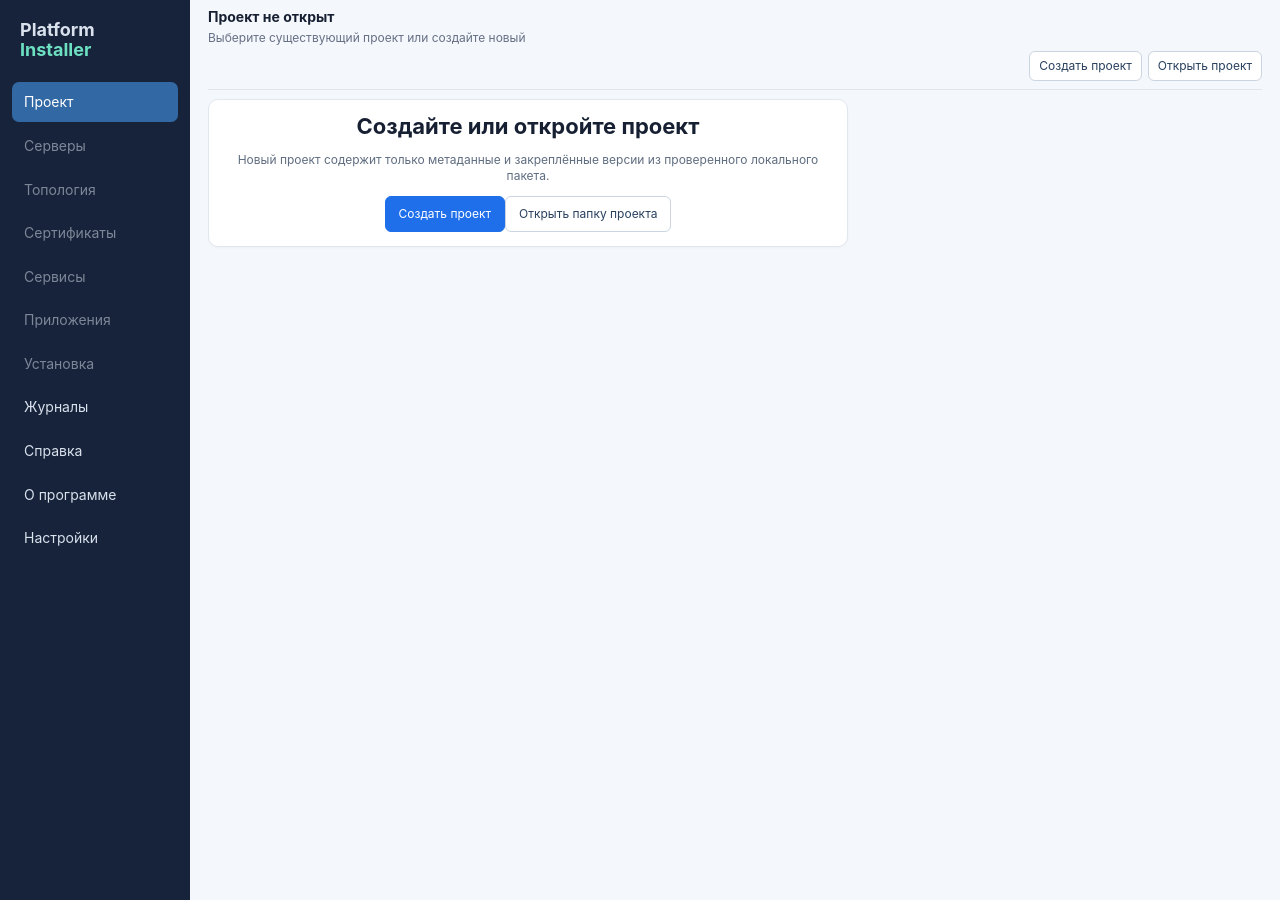
highlights project settings staged in the shared draft and keeps them visible across navigation
Click the button "Открыть папку проекта": click(588, 214) x1=505 y1=196 x2=672 y2=232
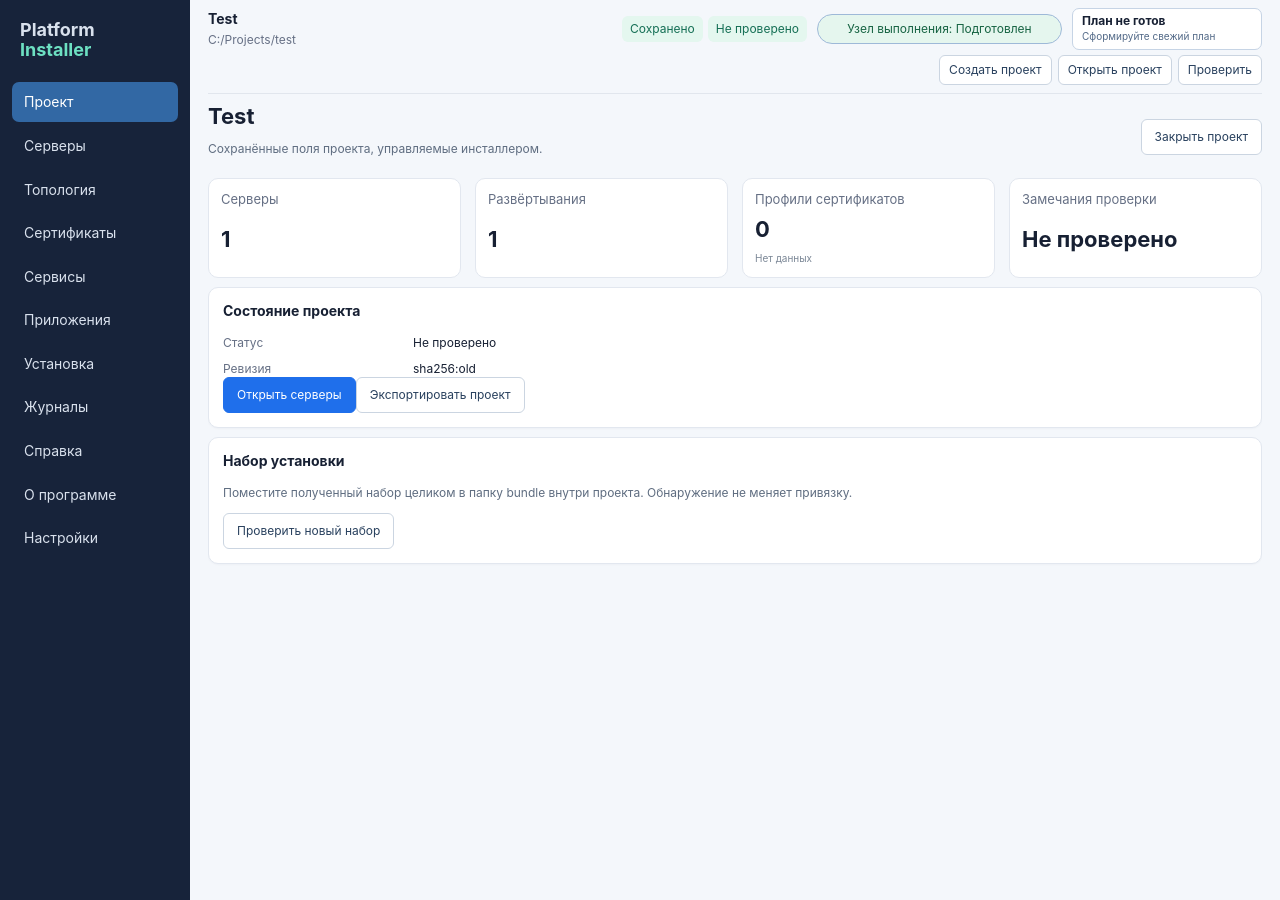
Click the button "Настройки": click(95, 538) x1=12 y1=518 x2=178 y2=558
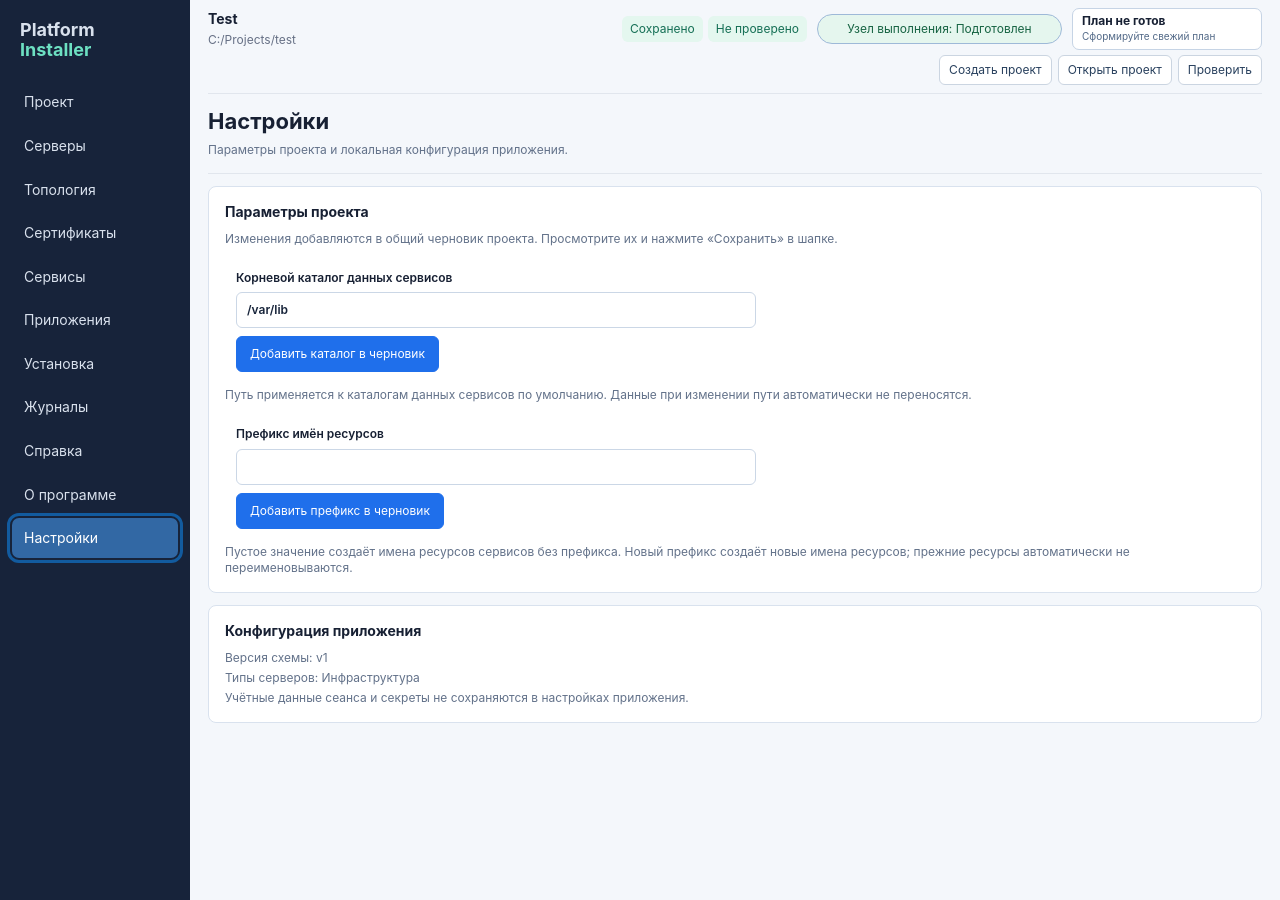
Replace the text in the field labelled "Корневой каталог данных сервисов" with "/data": (496, 310) x1=236 y1=292 x2=756 y2=328
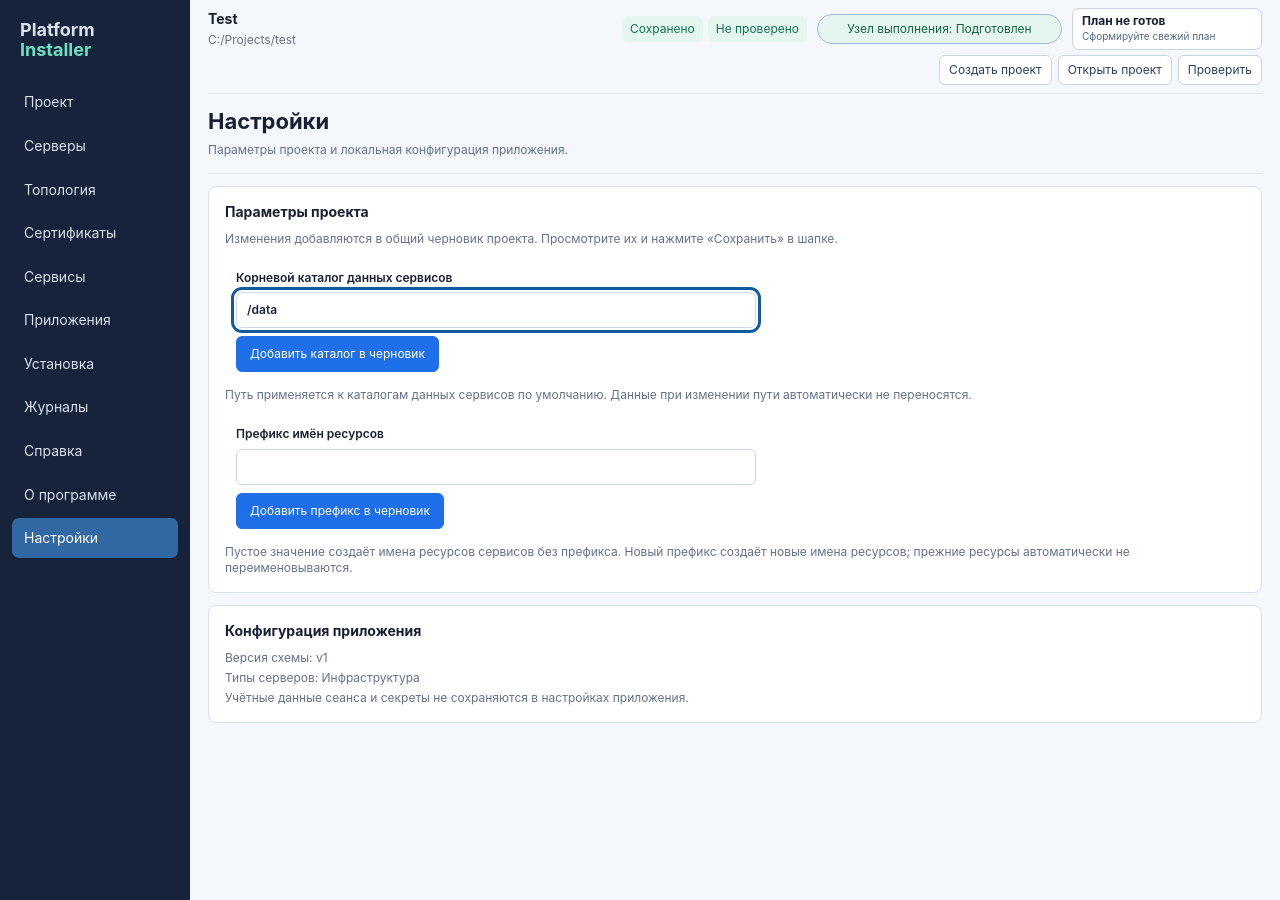
Click the button "Добавить каталог в черновик": click(338, 354) x1=236 y1=336 x2=439 y2=372
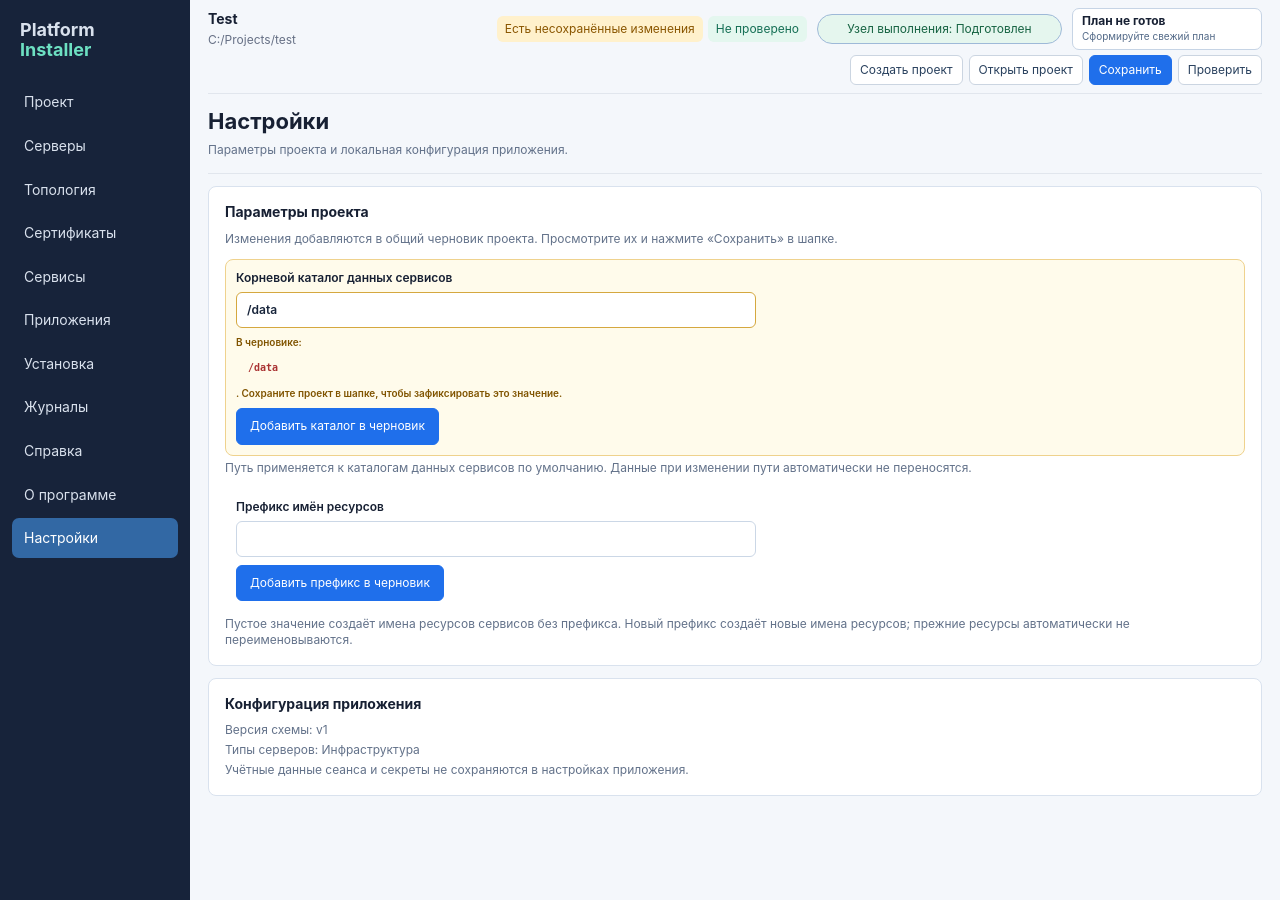
Result: the text "Есть несохранённые изменения" is shown at x1=497 y1=16 x2=703 y2=42
Click the button "Проект": click(95, 102) x1=12 y1=82 x2=178 y2=122
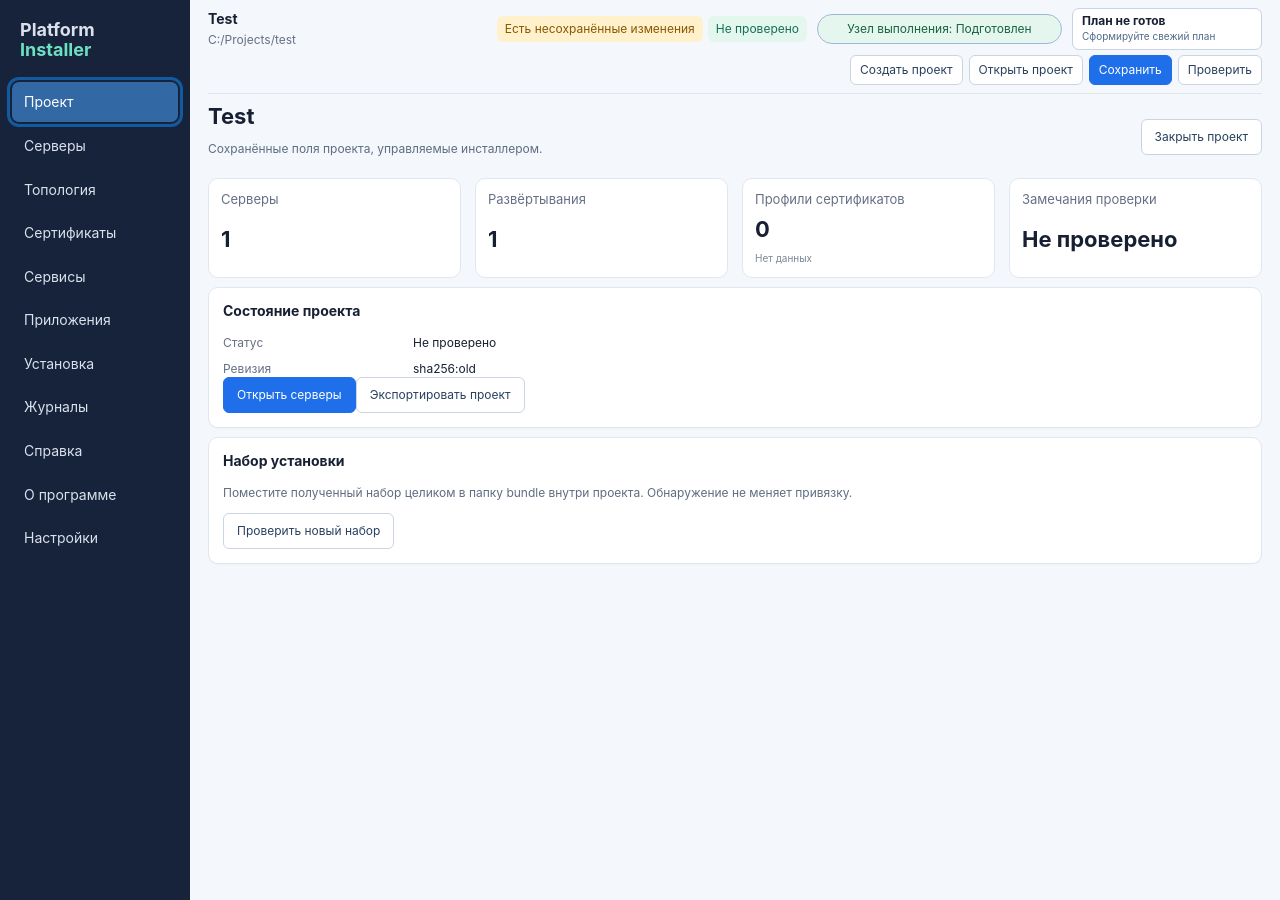
Click the button "Настройки": click(95, 538) x1=12 y1=518 x2=178 y2=558
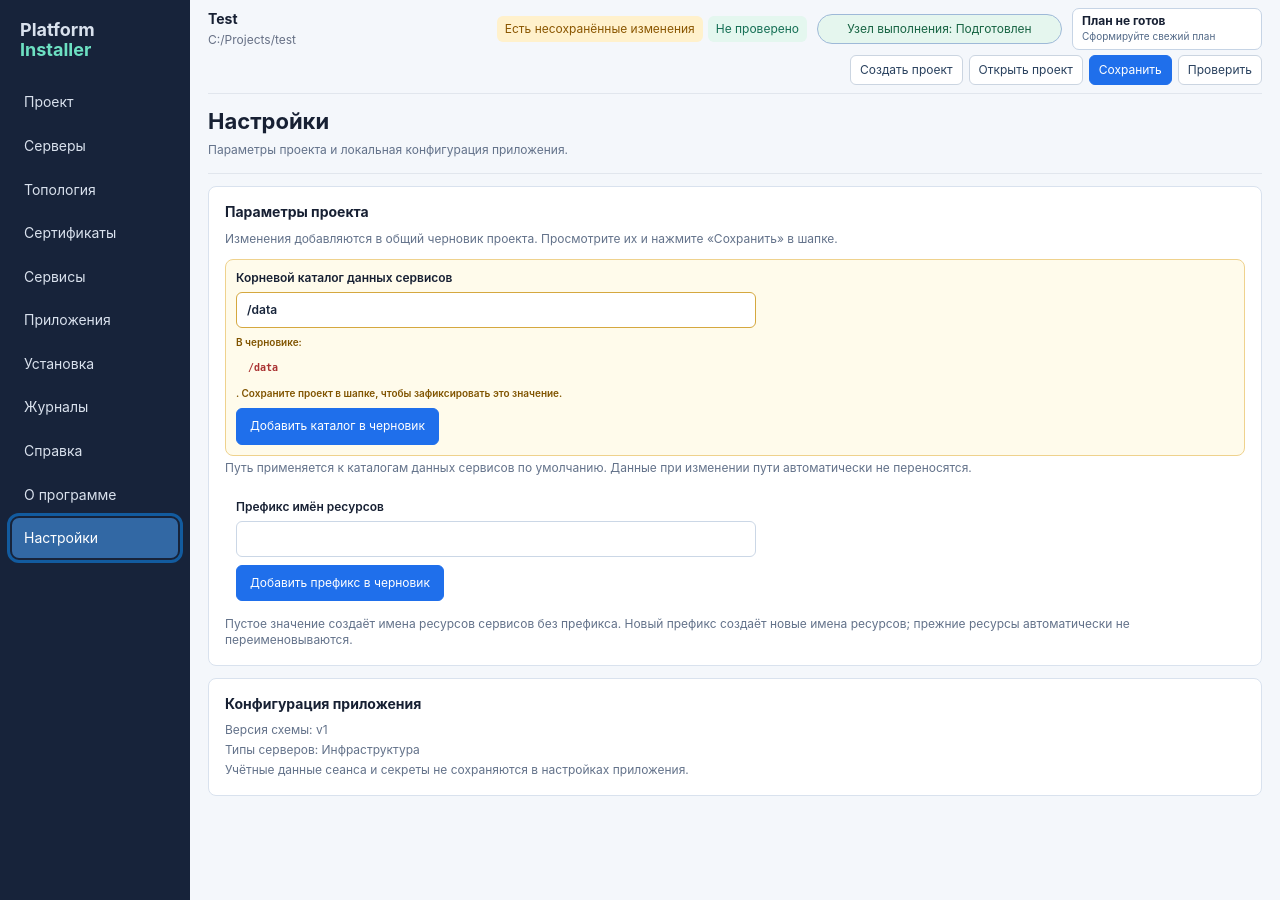
Result: the field labelled "Корневой каталог данных сервисов" holds "/data" at x1=236 y1=292 x2=756 y2=328
